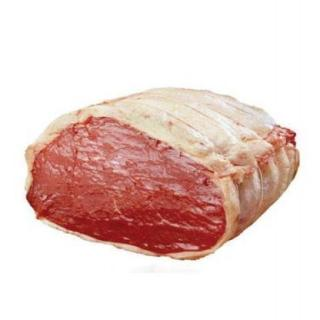Daging Sapi: (22, 81, 305, 265)
